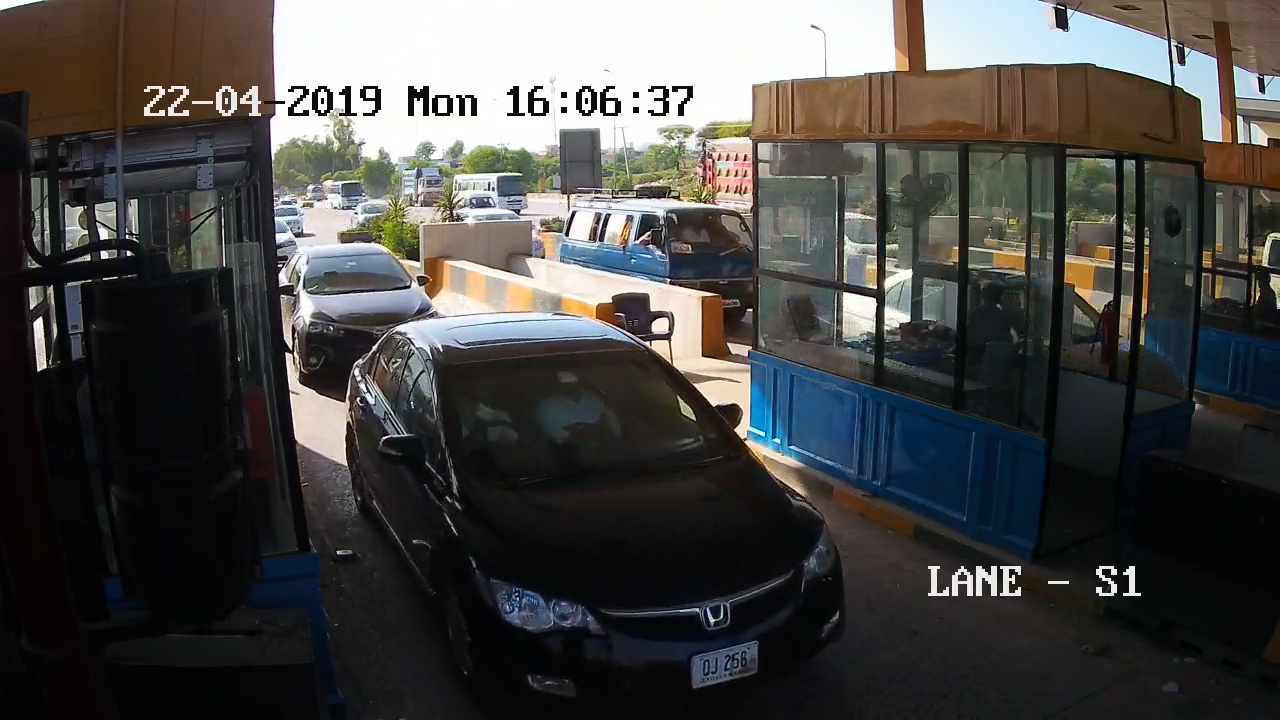Number Plate (Car): (692, 643, 757, 682)
